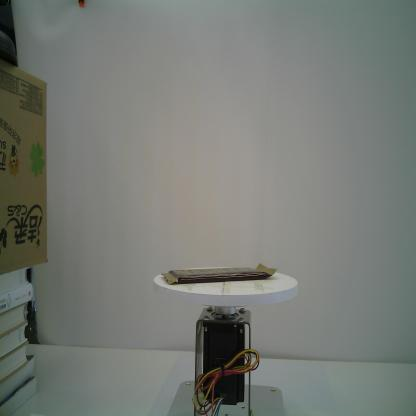Chocolate: (158, 258, 279, 285)
